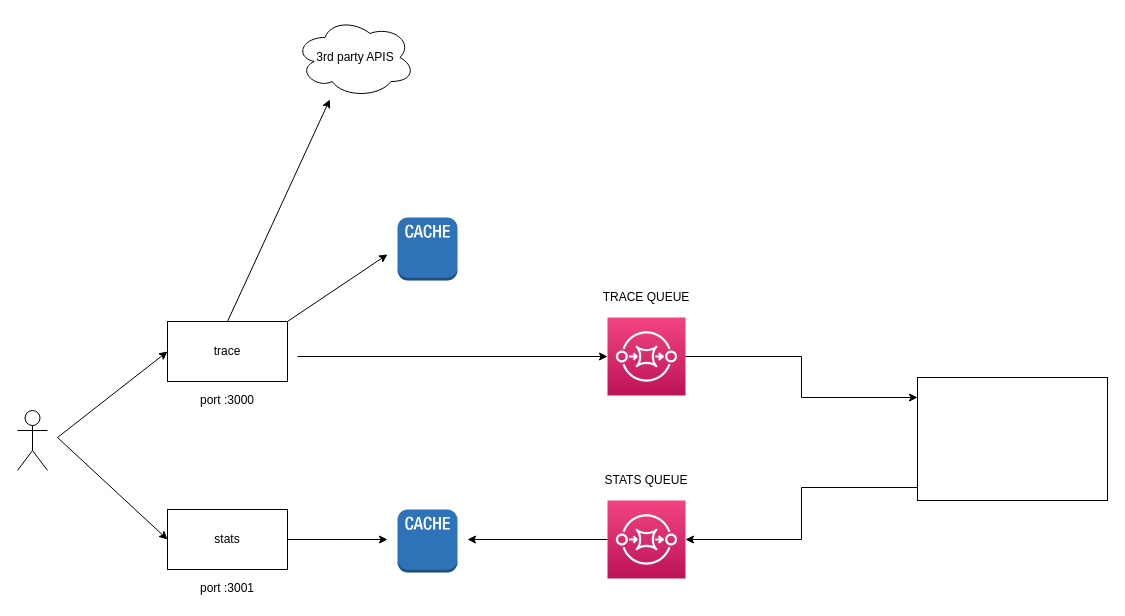
This 1125x616 diagram has some shape labels left out. Here are the shapes that lost their labels. From the top down, the centre of each, then its label:
At point (32, 440): "Actor".
At point (1012, 438): "StatsProcessor".
